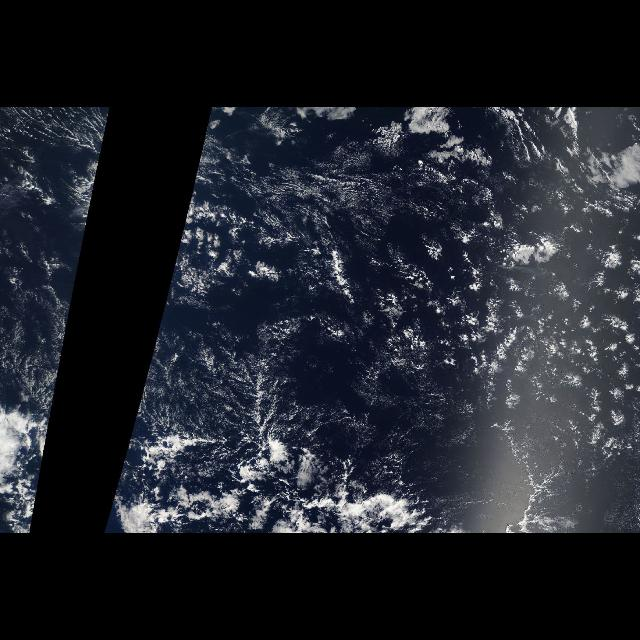Gravel: (394, 143, 636, 447)
